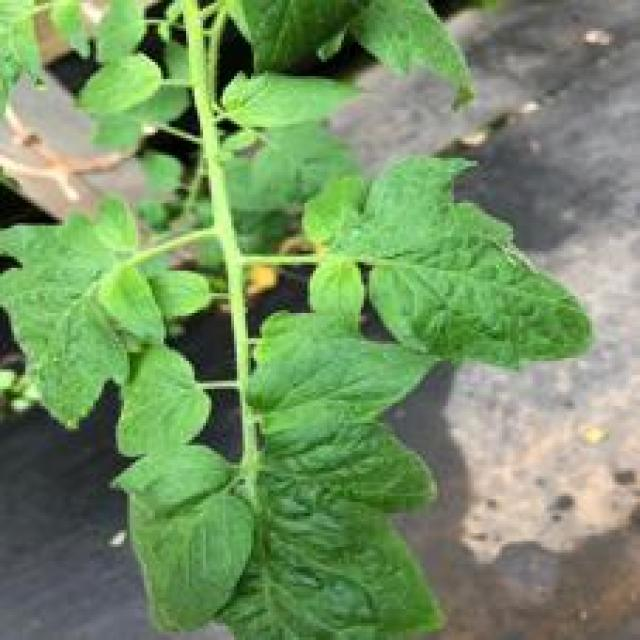Healthy Leaf: (305, 149, 597, 373), (215, 419, 441, 640), (0, 189, 169, 434), (113, 439, 255, 640), (249, 332, 446, 424), (115, 345, 212, 463), (216, 66, 368, 133)
